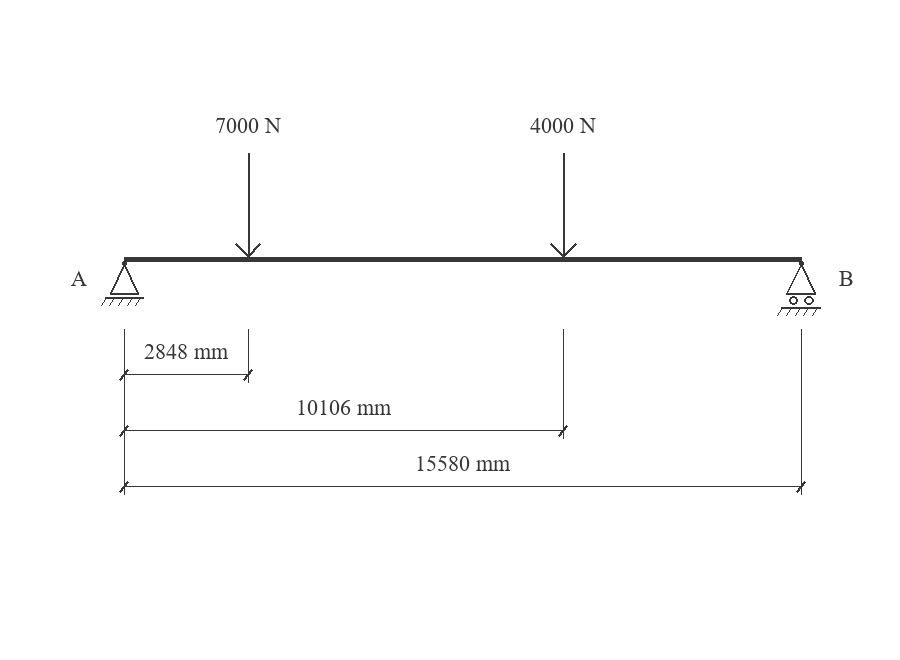pin_support: (101, 261, 144, 306)
point_load: (550, 153, 577, 258), (235, 153, 261, 258)
roller_support: (777, 261, 821, 316)
